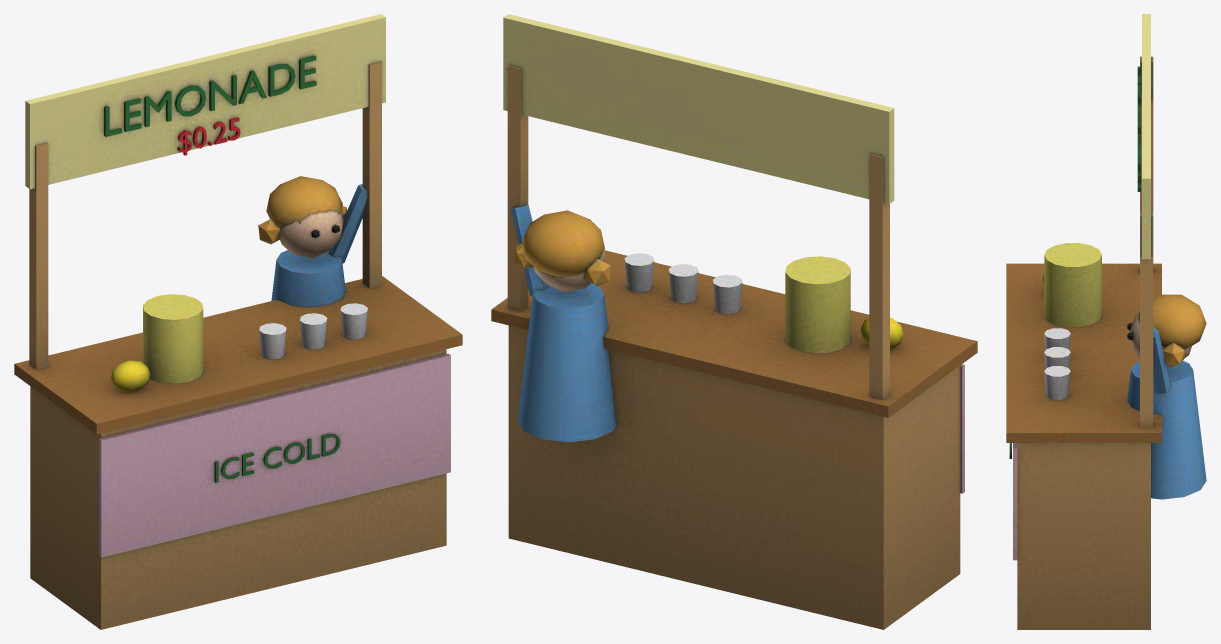
The model's file is limonada.glb.
The picture shows the model from 3 angles, left to right: view 1: azimuth 30°, elevation 25°; view 2: azimuth 150°, elevation 25°; view 3: azimuth 270°, elevation 25°; orthographic projection. The views are drawn at different scales.
Visible parts, largest first — view 1: limonada; view 2: limonada; view 3: limonada.
Part boxes in pixels (box(x1,y1,x2,y2)): limonada: box(14, 14, 462, 629); limonada: box(491, 14, 977, 629); limonada: box(1006, 14, 1206, 629).
Bounding box in the file's own units: 1.8 × 2.25 × 0.9.
Materials: 1 (1 with a texture image).
